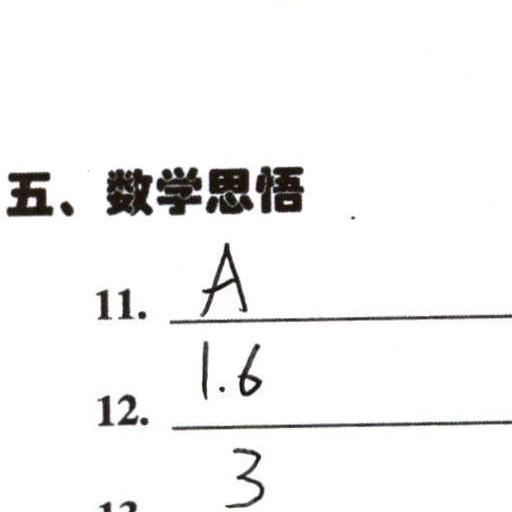ans: (190, 334, 263, 402), (194, 237, 249, 316), (219, 440, 265, 510)
